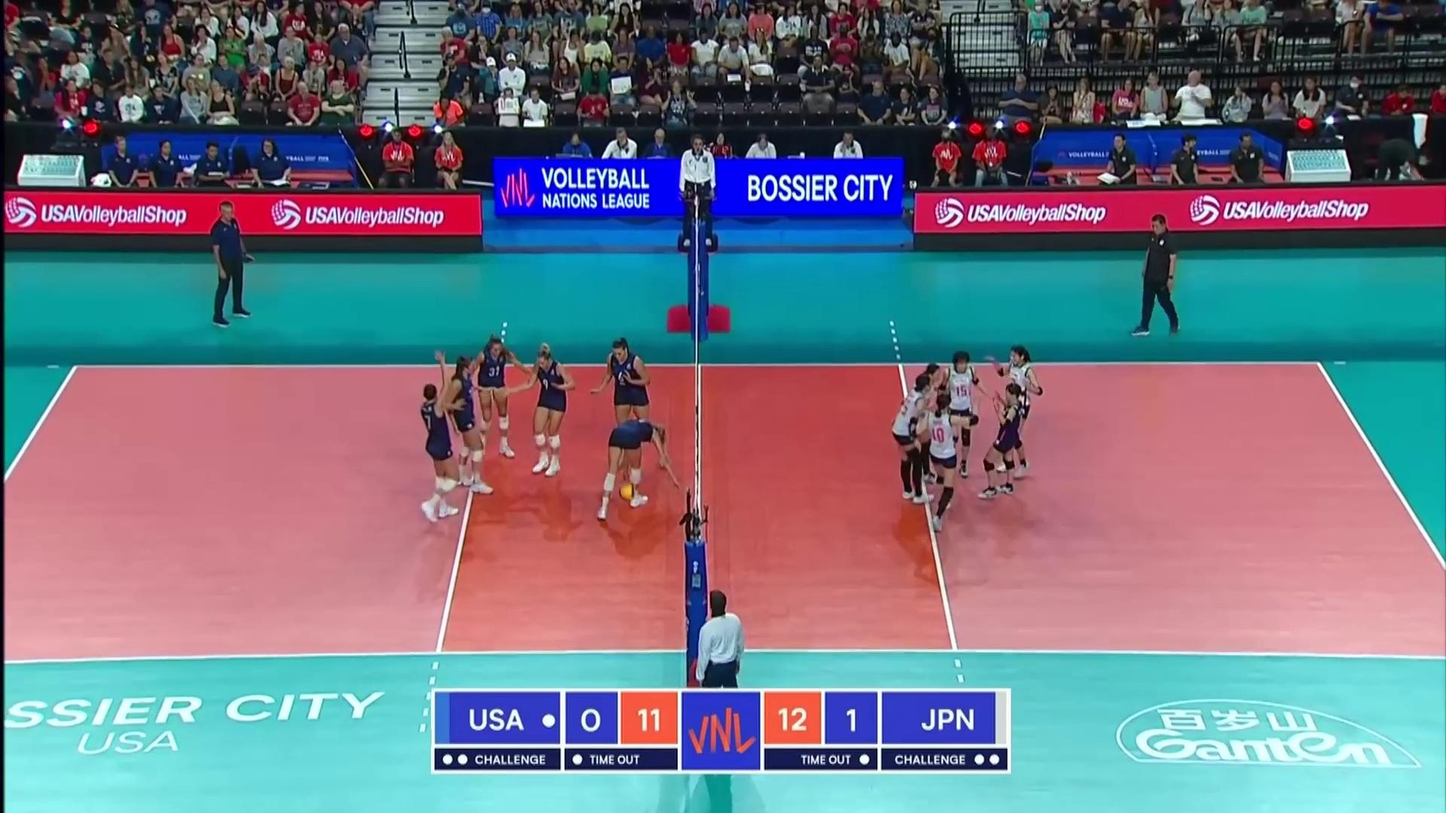player: (411, 377, 481, 527), (596, 416, 677, 523), (932, 350, 993, 492), (515, 345, 580, 478), (466, 331, 526, 473), (923, 396, 980, 539), (889, 367, 944, 507), (444, 353, 496, 497), (600, 339, 654, 472), (991, 346, 1044, 477), (982, 380, 1030, 500), (915, 361, 949, 486)
refree: (691, 592, 750, 772), (672, 130, 721, 247)
